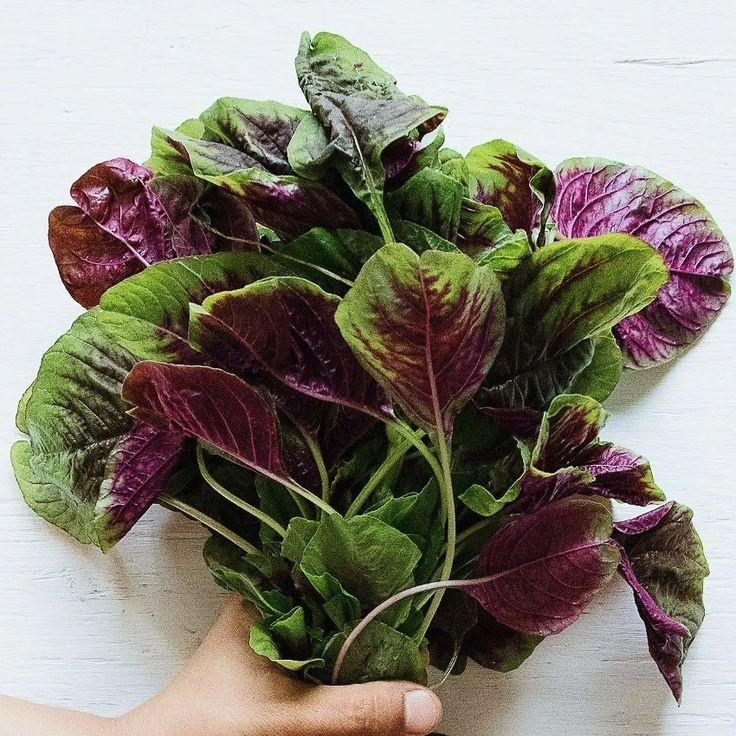amaranth: (10, 28, 731, 707), (547, 154, 733, 372), (332, 240, 507, 442)
